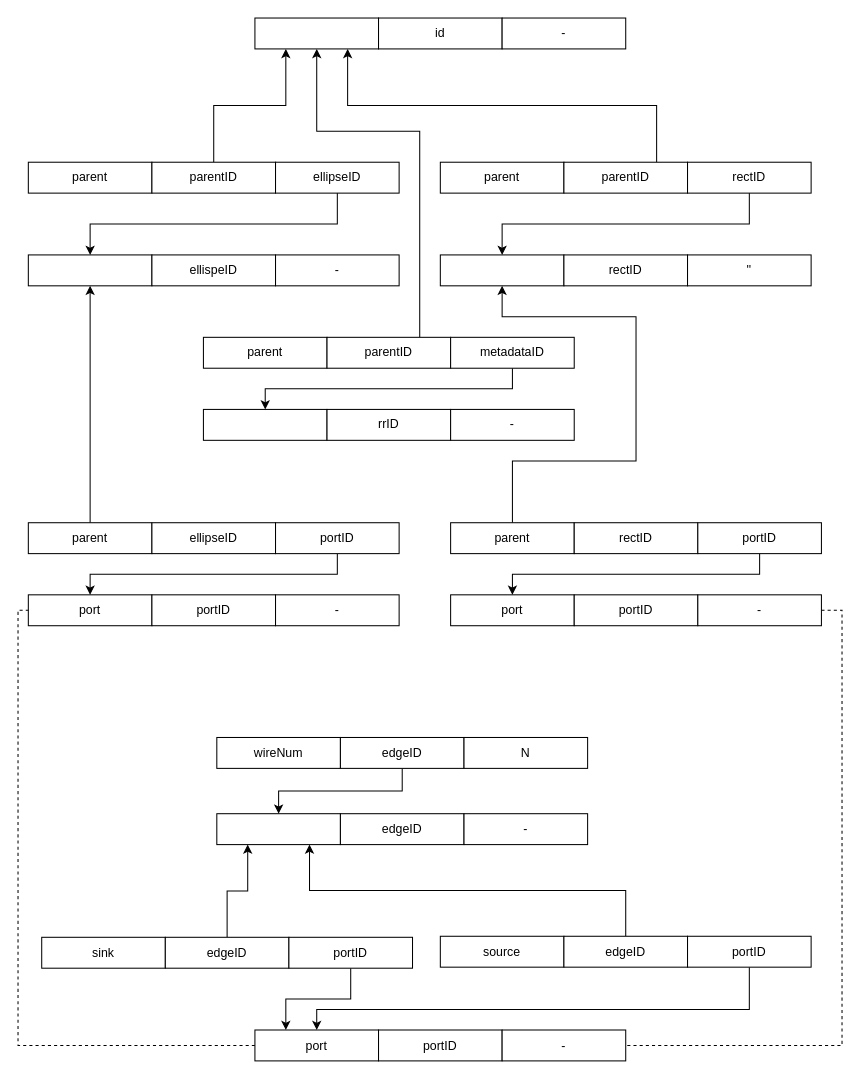
Image size: 861x1079. Some labels were removed from this diagram. The shapes that lost their labels are listed below. From the top down, each one's centre as x and y in pixels, then its label:
the point at 316,33: component
the point at 89,270: ellipse
the point at 501,270: rect
the point at 264,424: roundedrect
the point at 278,829: edge
